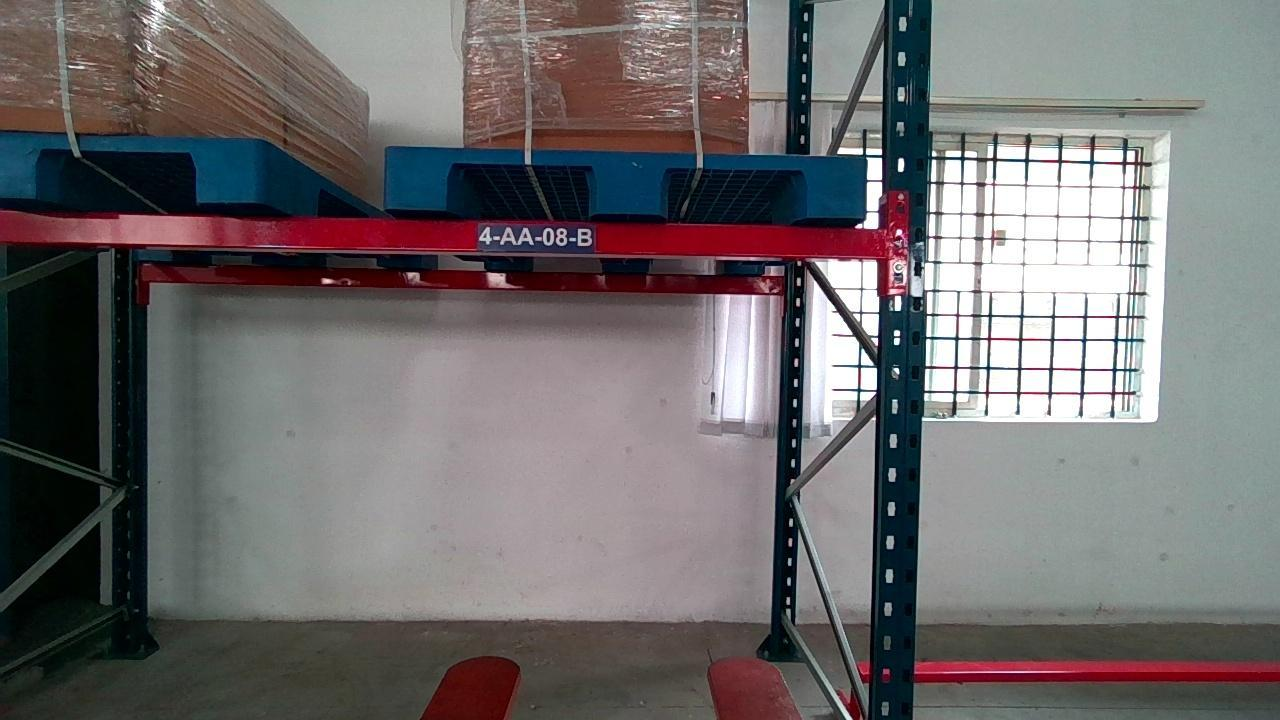h_rack: (3, 210, 886, 255)
small_pallet: (387, 150, 868, 215), (3, 132, 262, 199)
